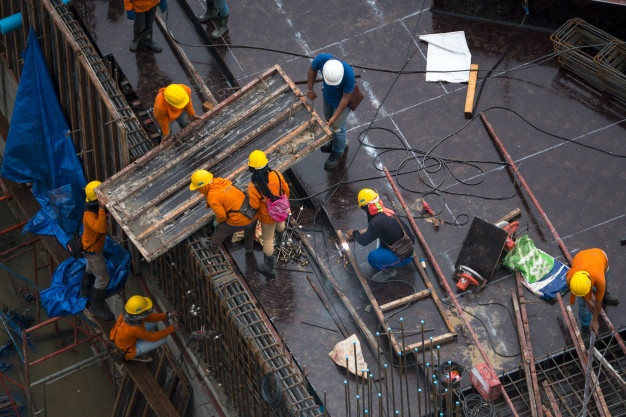white: (321, 59, 345, 87)
yellow: (126, 292, 152, 321), (163, 84, 189, 110), (356, 186, 379, 213), (569, 272, 591, 298), (83, 180, 104, 205), (191, 170, 212, 194), (248, 151, 268, 174)
